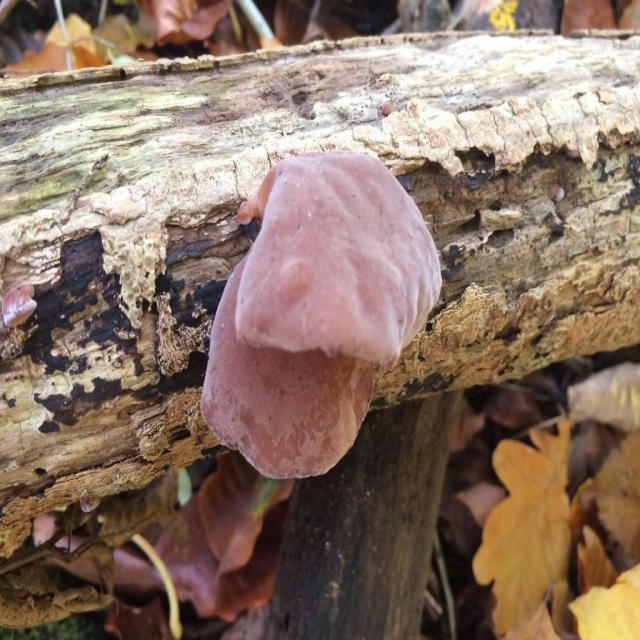Auricularia auricula: (201, 150, 442, 468)
